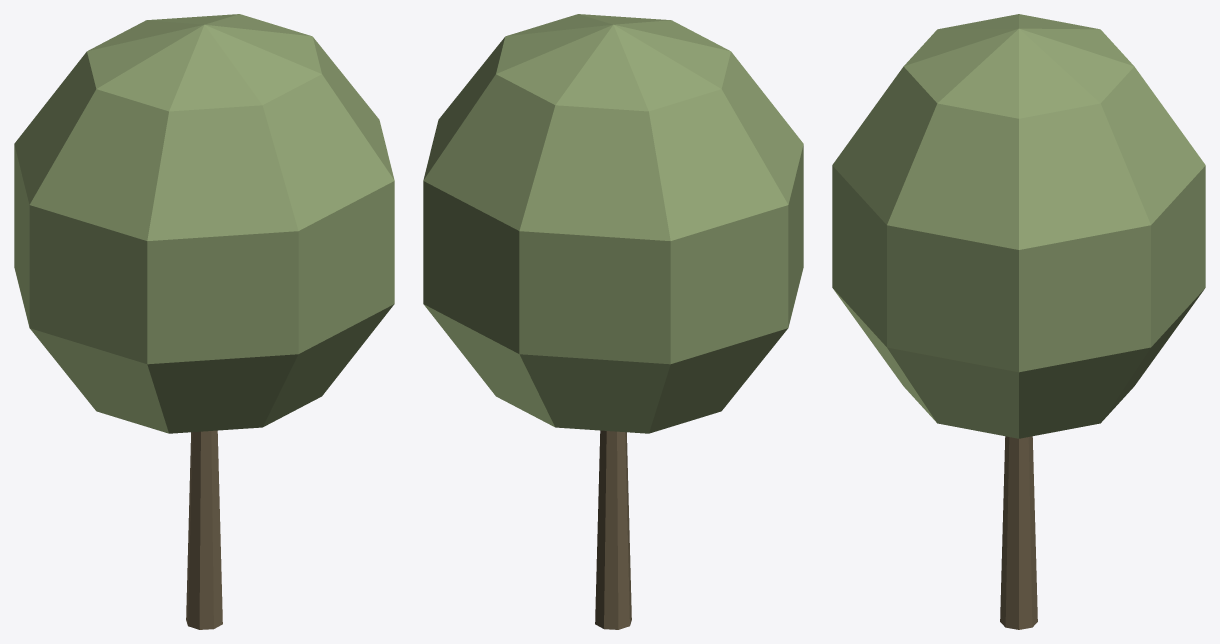
Rendered from tree-young.glb.
The picture shows the model from 3 angles, left to right: view 1: azimuth 30°, elevation 25°; view 2: azimuth 150°, elevation 25°; view 3: azimuth 270°, elevation 25°; orthographic projection.
Visible parts, largest first — view 1: tree-young; view 2: tree-young; view 3: tree-young.
Boxes of the visible parts, bbox=[...] form: tree-young: bbox=[14, 14, 394, 629]; tree-young: bbox=[423, 14, 803, 629]; tree-young: bbox=[832, 14, 1205, 629].
Bounding box in the file's own units: 2.76 × 4.5 × 2.57.
